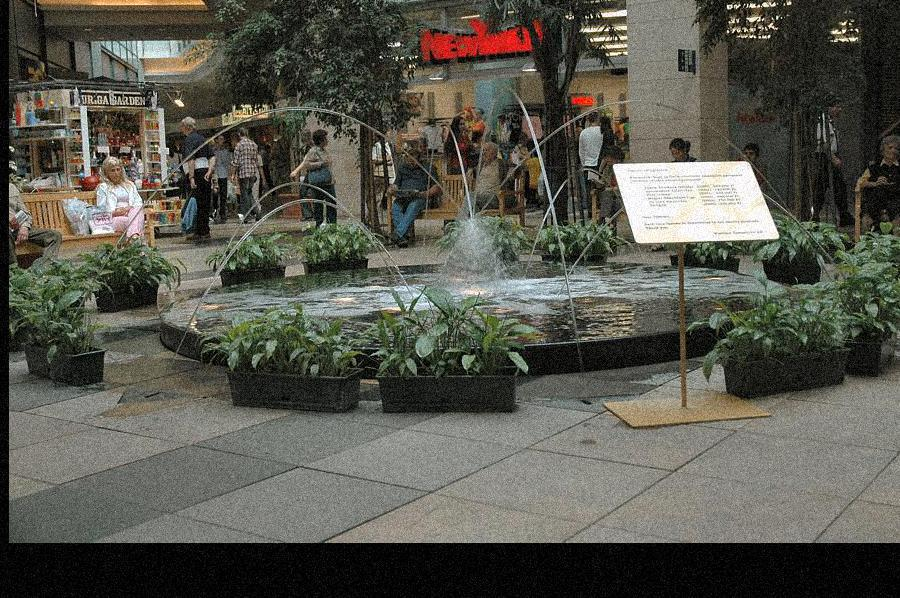Matera: (376, 297, 527, 407), (212, 312, 365, 410), (711, 290, 843, 388), (25, 278, 110, 384), (845, 262, 896, 372)
